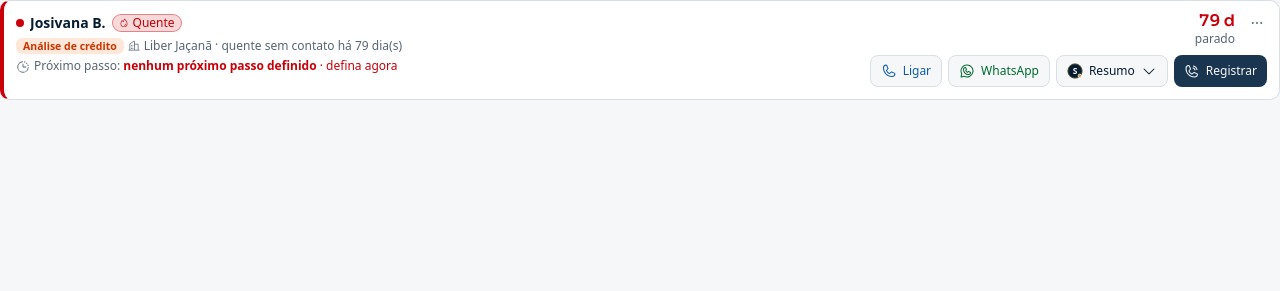
FilaCard + FilaDesfecho › Registrar abre 'o que aconteceu?'; escolher mostra o próximo passo; Confirmar devolve a resposta
Step 1. Click the button "Registrar" → point(1220, 71), box [1174, 55, 1267, 87]
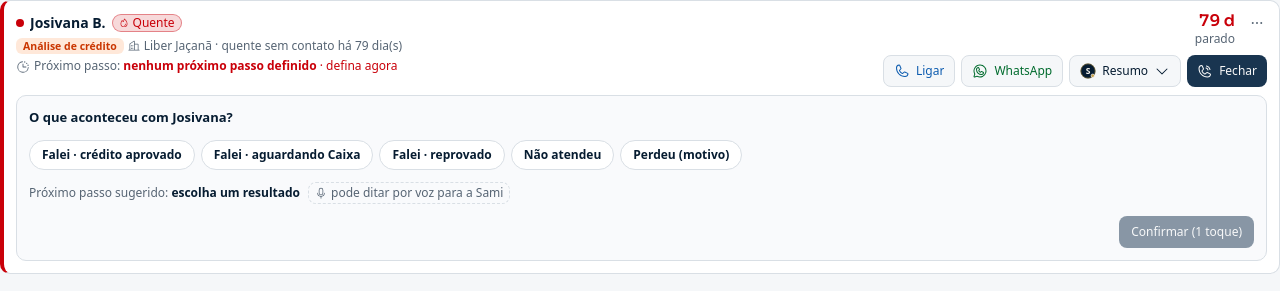
Result: the text "O que aconteceu com Josivana?" is shown at [29, 108, 233, 126]
Result: the number of radio buttons is 5
Result: the text with test id "desfecho-proximo" reads "escolha um resultado" at [171, 184, 300, 200]
Step 2. Click the radio button labelled "Falei · aguardando Caixa" → point(287, 154), box [201, 140, 373, 170]
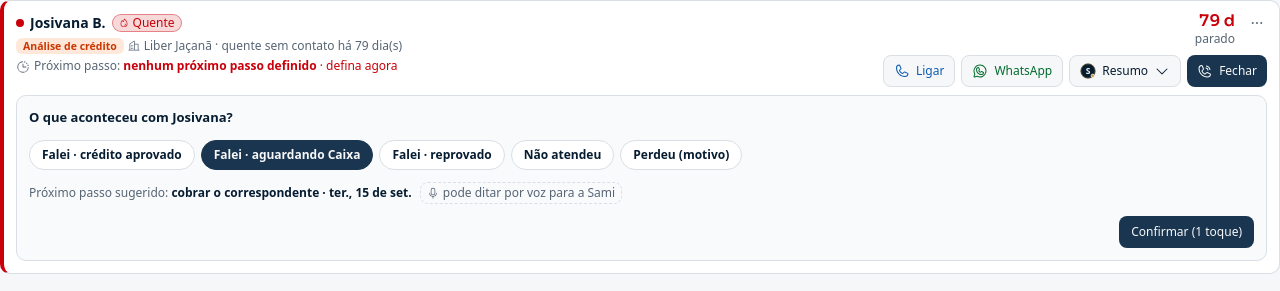
Result: the text with test id "desfecho-proximo" shows "cobrar o correspondente ·" at [171, 184, 412, 200]
Step 3. Click the button "Confirmar (1 toque)" → point(1187, 232), box [1119, 216, 1254, 248]
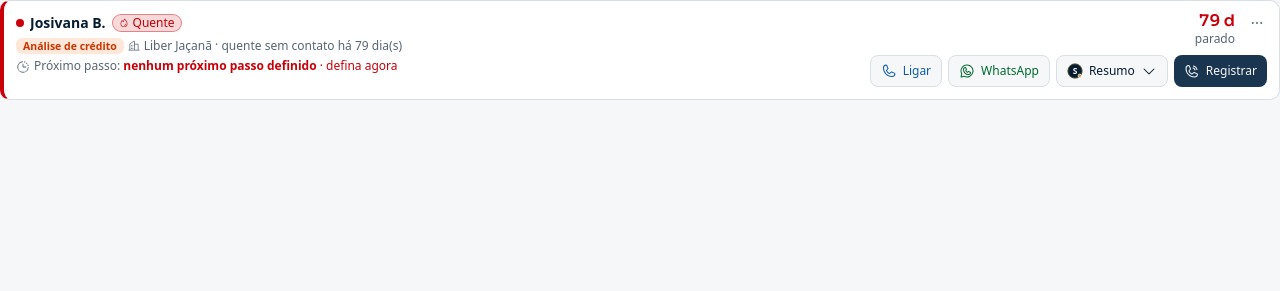
Result: the element with test id "desfecho-painel" is gone
